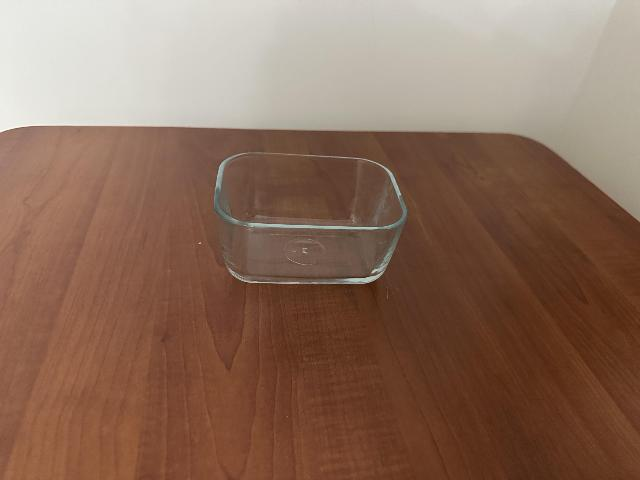Cam: (213, 150, 409, 288)
